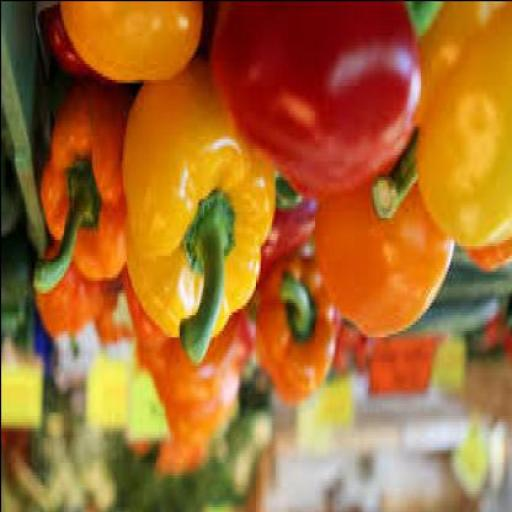biodegradable: (122, 63, 279, 370), (208, 3, 420, 201), (374, 3, 512, 270), (312, 188, 455, 346), (33, 82, 129, 298), (124, 292, 252, 398), (256, 267, 343, 409), (62, 2, 204, 85), (117, 443, 239, 511), (34, 249, 106, 342), (41, 15, 124, 92), (161, 377, 241, 449), (232, 399, 276, 502), (259, 198, 317, 267), (420, 267, 510, 309), (380, 308, 502, 334), (126, 449, 212, 484), (2, 232, 35, 314), (94, 298, 139, 346), (398, 3, 448, 44), (2, 160, 26, 245), (2, 318, 35, 354), (70, 330, 80, 352)
